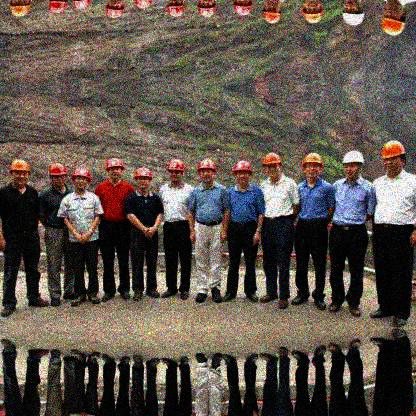helmet: (380, 140, 407, 176), (381, 1, 406, 37), (300, 151, 324, 179), (340, 1, 364, 27), (343, 151, 364, 179), (11, 159, 31, 187), (301, 1, 326, 23), (263, 151, 282, 179), (48, 160, 67, 186), (165, 159, 186, 182), (72, 166, 91, 191), (197, 158, 216, 183), (234, 160, 253, 185), (132, 168, 153, 189), (105, 157, 125, 179), (262, 1, 281, 23)
